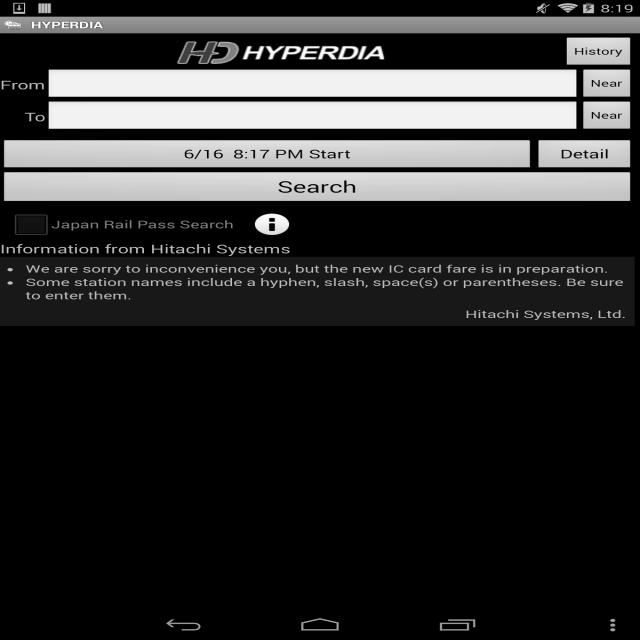Button: (0, 171, 635, 205), (0, 139, 534, 171), (534, 140, 635, 172), (562, 36, 634, 68), (579, 68, 635, 100), (579, 100, 635, 132)
CheckBox: (10, 208, 234, 240)
EditText: (46, 68, 579, 100), (46, 100, 579, 132)
ImageView: (0, 41, 563, 64), (255, 208, 289, 240), (5, 20, 22, 30)
TextView: (31, 17, 634, 32), (0, 240, 291, 257), (0, 76, 46, 93), (24, 108, 46, 125)
